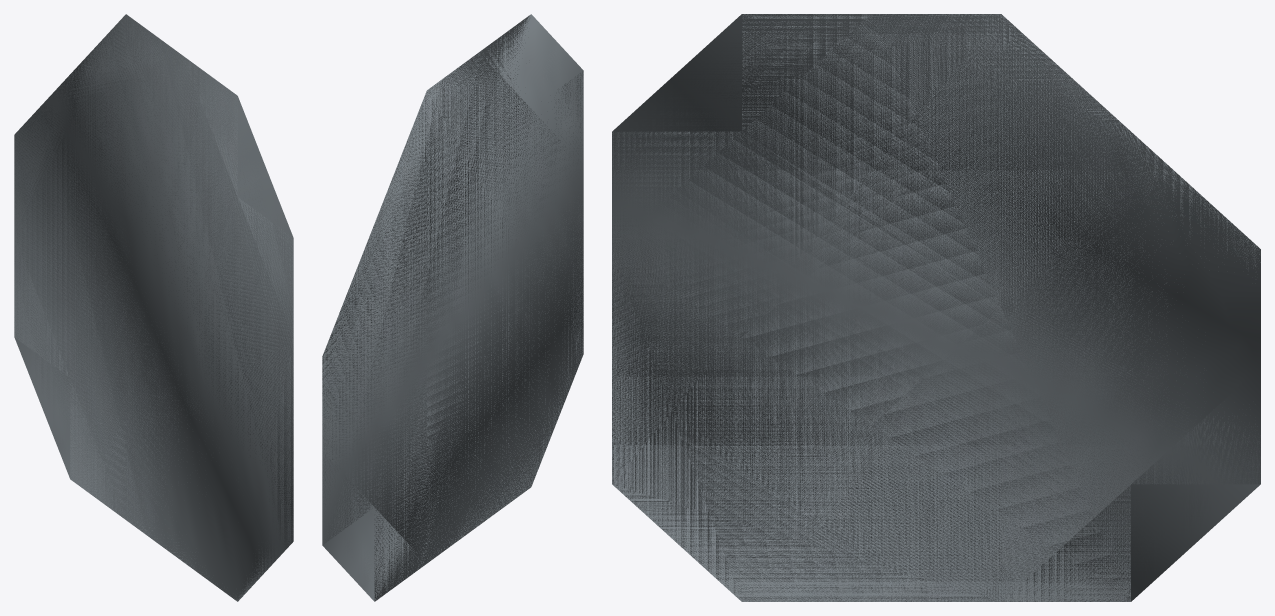
3 renders of one model, left to right at view 1: azimuth 30°, elevation 25°; view 2: azimuth 150°, elevation 25°; view 3: azimuth 270°, elevation 25°, orthographic. The views are drawn at different scales.
Size of the model in its own units: 0 by 0.4 by 0.4.
Materials: 1 (1 with a texture image).
